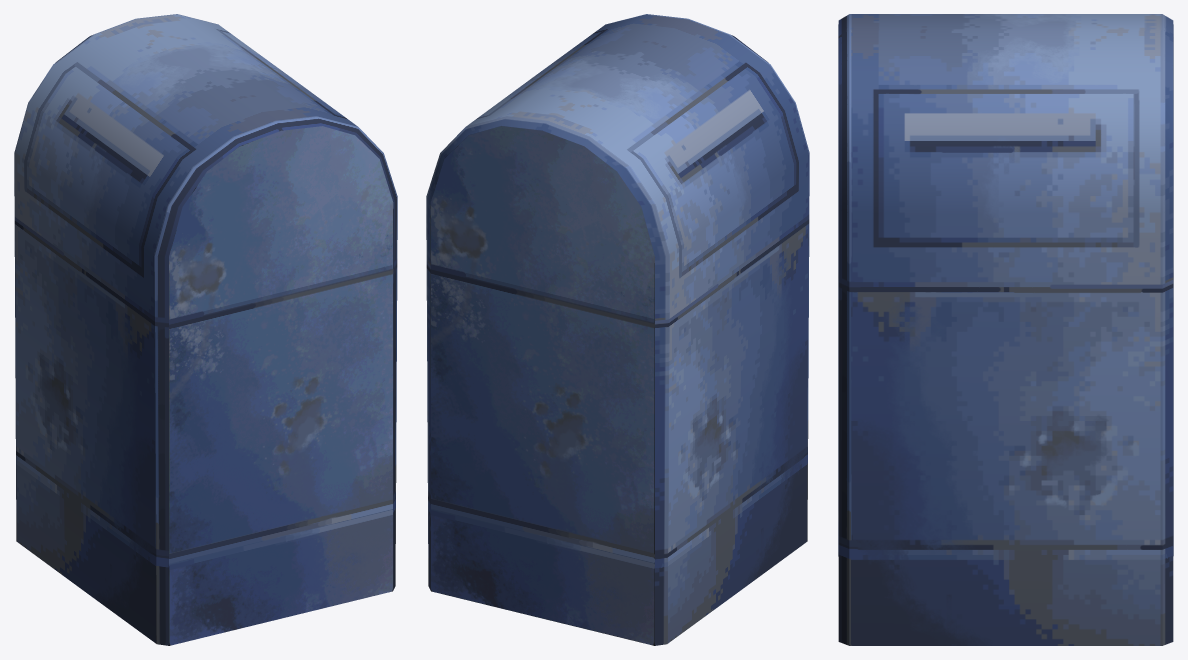
File: Mailbox.fbx
3 views of the same model, side by side, from view 1: azimuth 30°, elevation 25°; view 2: azimuth 150°, elevation 25°; view 3: azimuth 270°, elevation 25° (orthographic). The views are drawn at different scales.
Visible parts, largest first — view 1: l1_mailboxbig_Shape; view 2: l1_mailboxbig_Shape; view 3: l1_mailboxbig_Shape.
Part boxes in pixels (x1,y1,x2,y2): l1_mailboxbig_Shape: (14, 14, 397, 645); l1_mailboxbig_Shape: (426, 14, 809, 645); l1_mailboxbig_Shape: (838, 14, 1173, 645).
Size of the model in its own units: 74.53 by 145 by 79.79.
